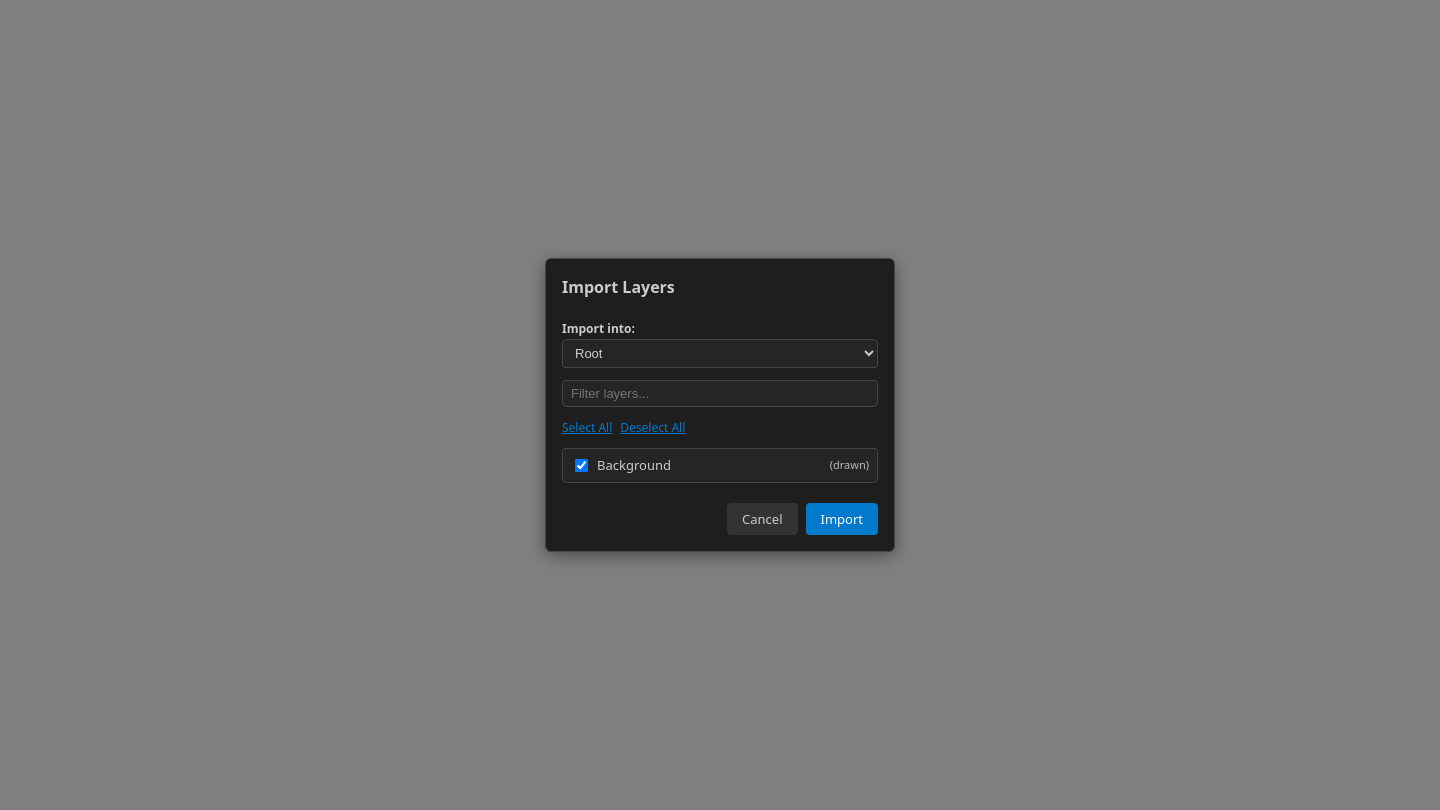
Scenario: ImportLayersDialog › Select All re-checks all layers
# Deselect first
Click the button "Deselect All" at (653, 427), box [620,419,685,436]
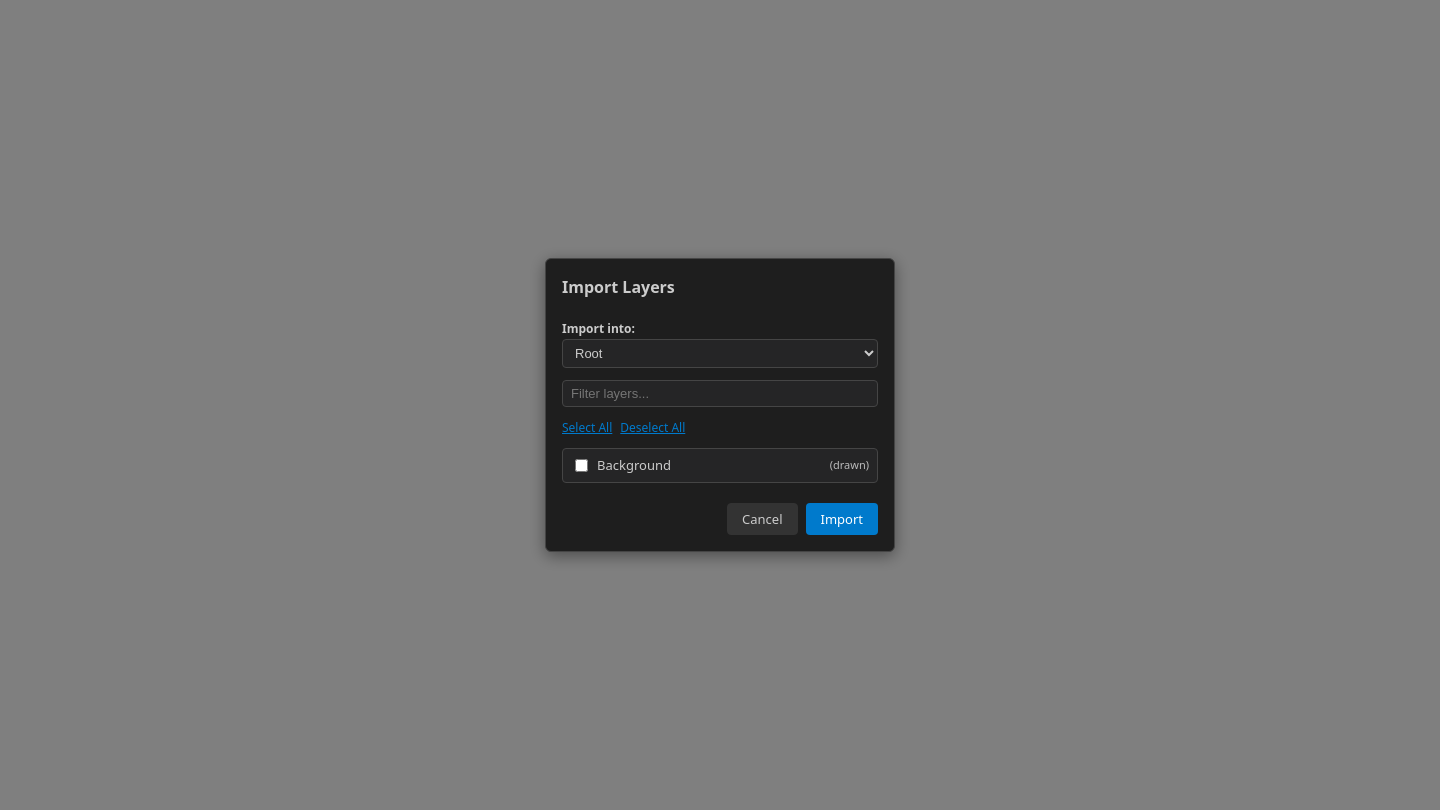
# Then select all
Click the button "Select All" at (587, 427), box [562,419,612,436]
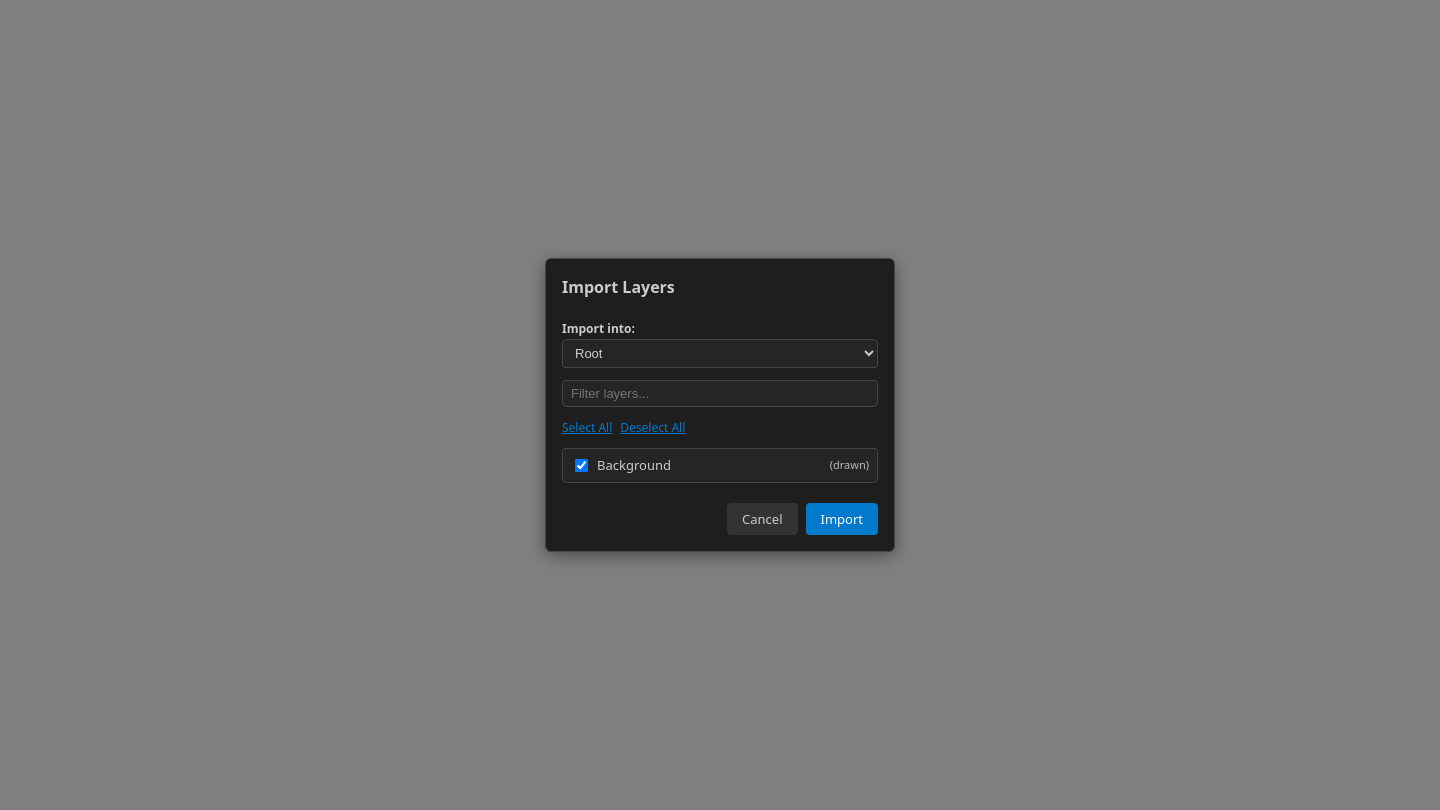
expect the checkbox with test id "import-check-bg-1" is checked: met, box [575,459,588,472]
